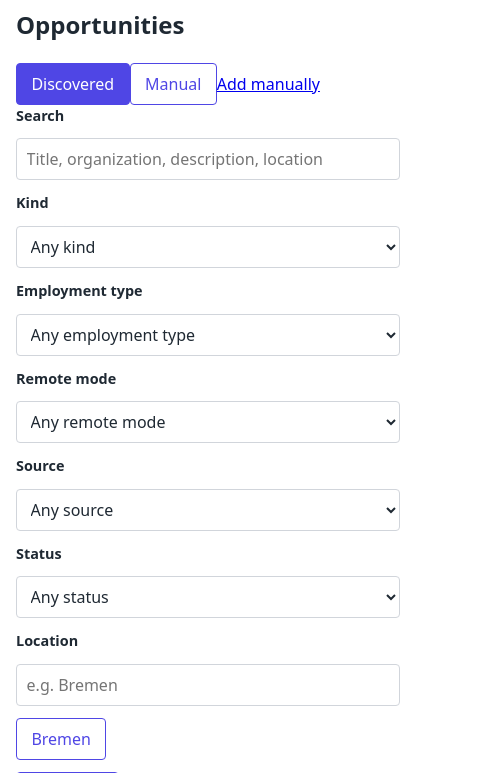
it: OpportunityListPage › switches to the Manual tab and shows the user-added opportunity
Click the tab "Manual".
click(173, 84)  # box [130,63,217,105]
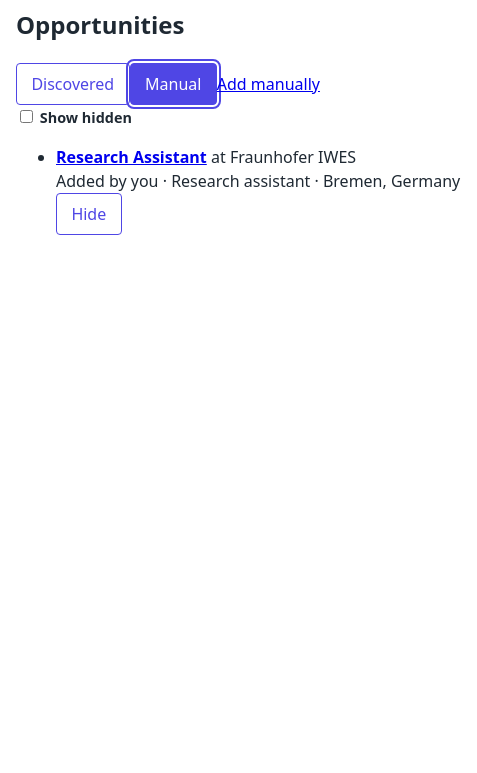
Result: the text "Research Assistant" is shown at [56,146,207,168]
Result: the text "Added by you" is shown at [56,170,158,192]
